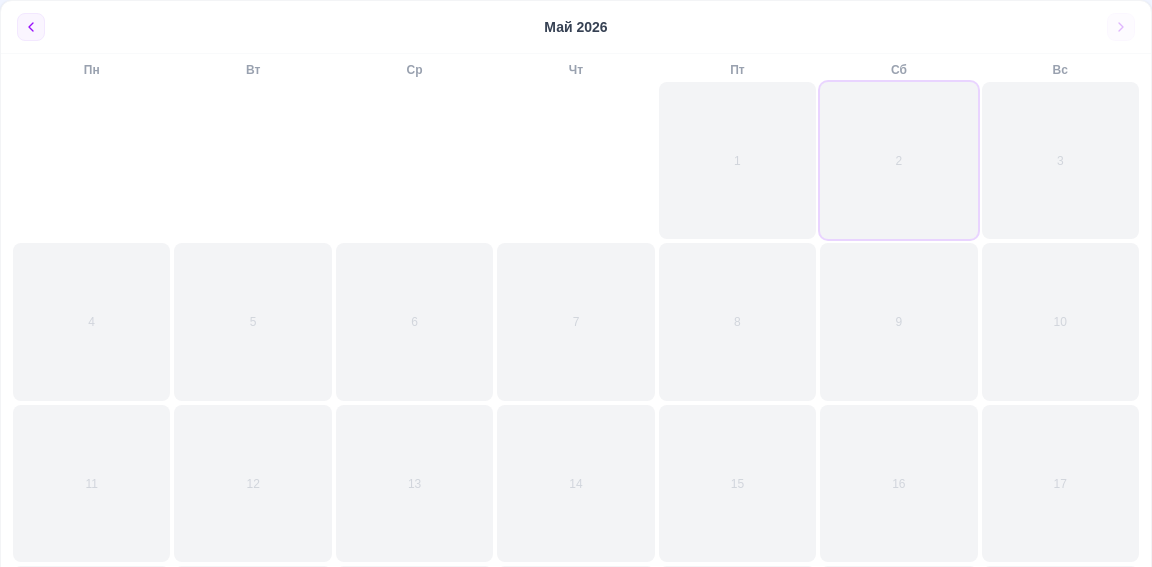
it: HabitDetailCalendar › prev button is disabled at 90-day boundary (Feb 2026)
# Navigate back: May → Apr → Mar → Feb (3 clicks)
What coordinates should you click on to do the following:
click the button named "предыдущий месяц"
I would click on:
 (31, 27)
Its box is [17,13,45,41].
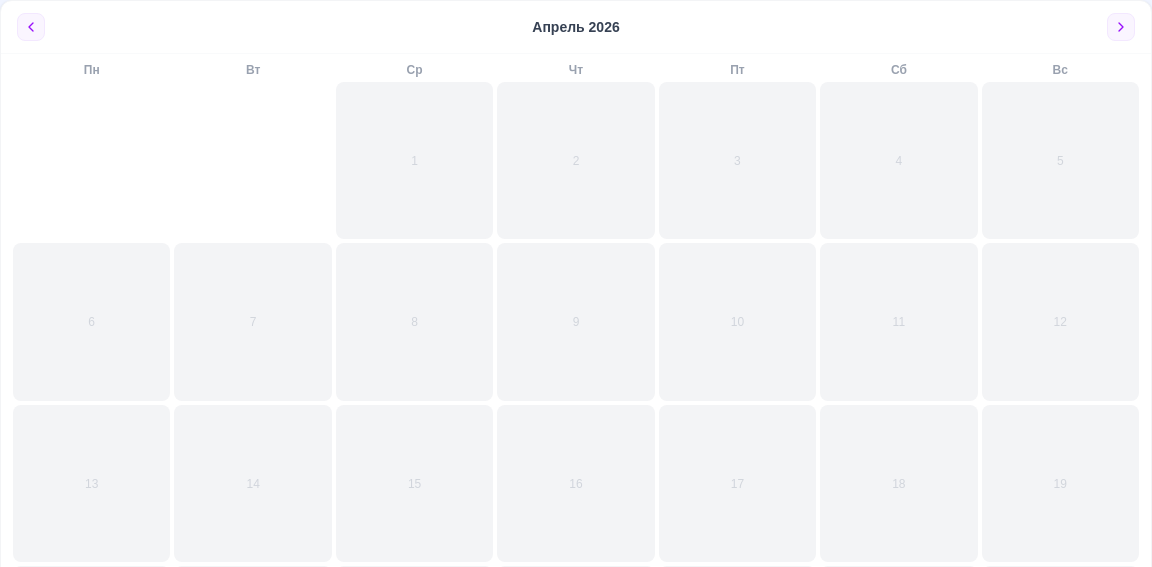
What coordinates should you click on to do the following:
click the button named "предыдущий месяц"
I would click on:
 (31, 27)
Its box is [17,13,45,41].
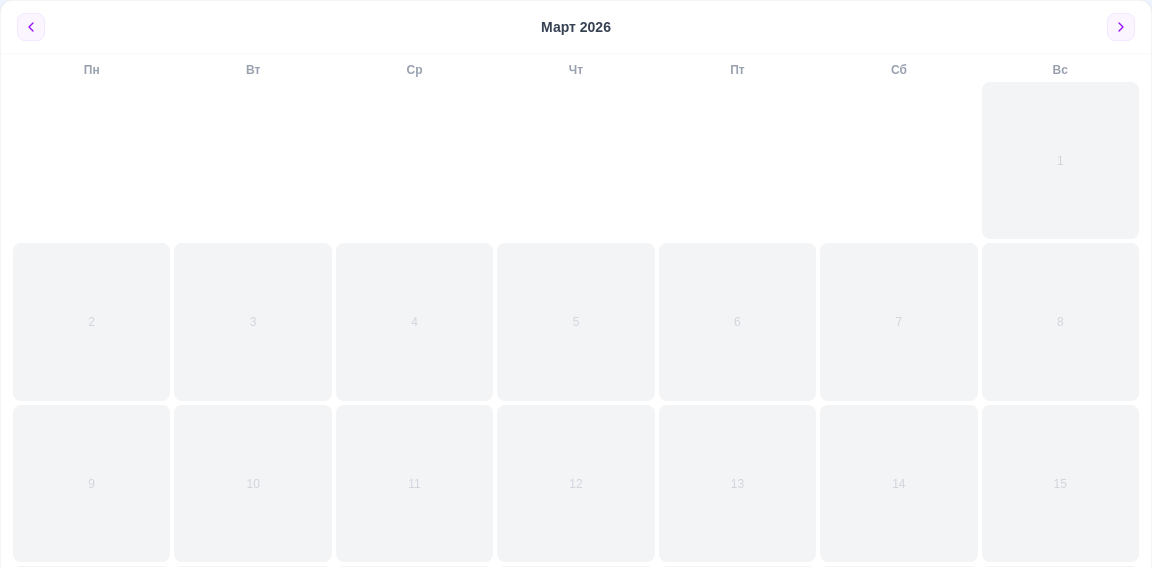
What coordinates should you click on to do the following:
click the button named "предыдущий месяц"
I would click on:
 (31, 27)
Its box is [17,13,45,41].
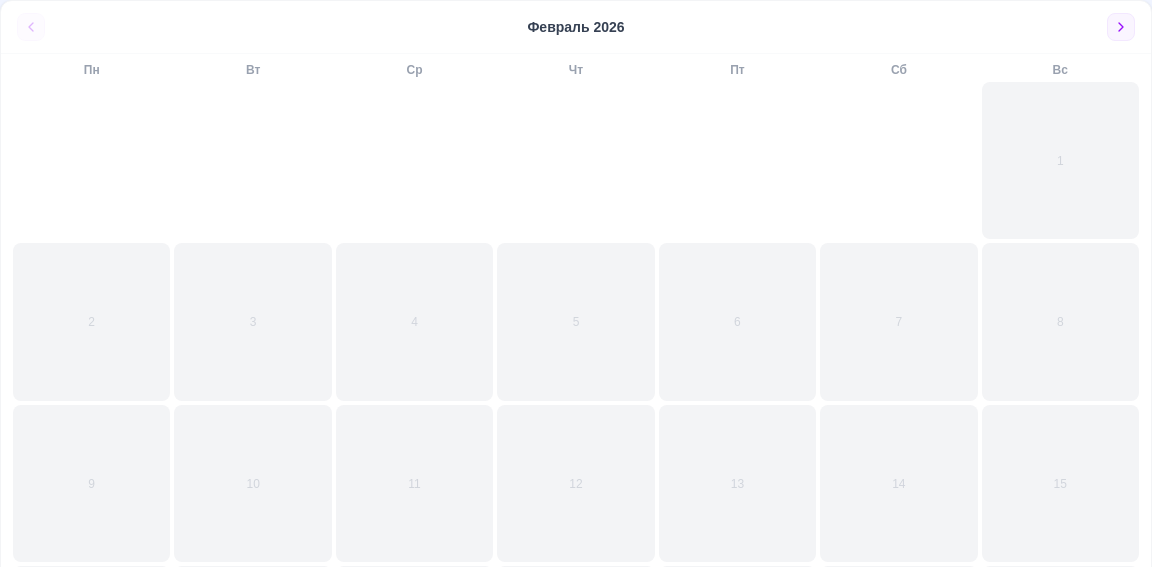
expect the text "февраль 2026" is shown: met, box [527,17,625,37]
